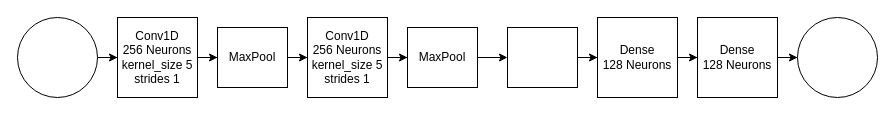
This 895x115 diagram has some shape labels left out. The box of each missing label's shape, as (x1, y1, x2, y2) in pixels:
BatchNorm: (506, 26, 578, 88)
Input 1x100: (16, 16, 98, 98)
Output {0, 1}: (796, 16, 878, 98)
